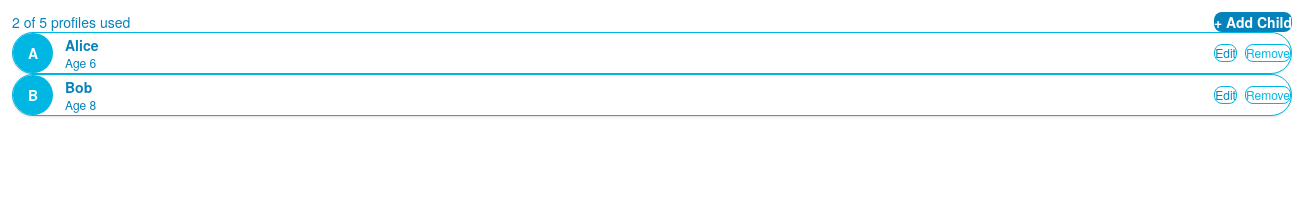
Test: ChildrenManager › submits edit and updates child in list
Click the button with test id "edit-child-btn" at (1226, 53), box x1=1214 y1=44 x2=1237 y2=62
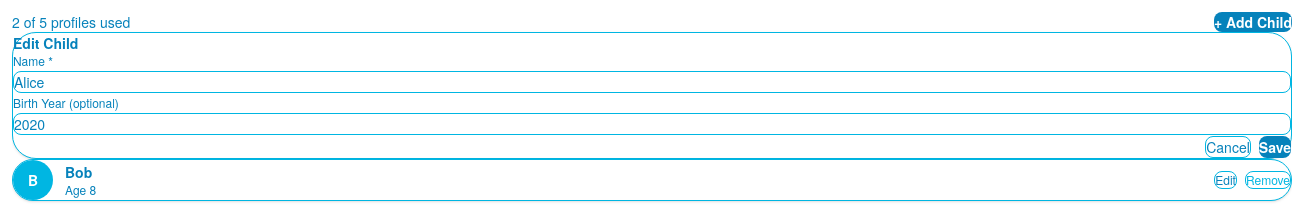
Replace the text in the field with test id "edit-child-name-input" with "Alicia" at (652, 82), box x1=13 y1=71 x2=1291 y2=93
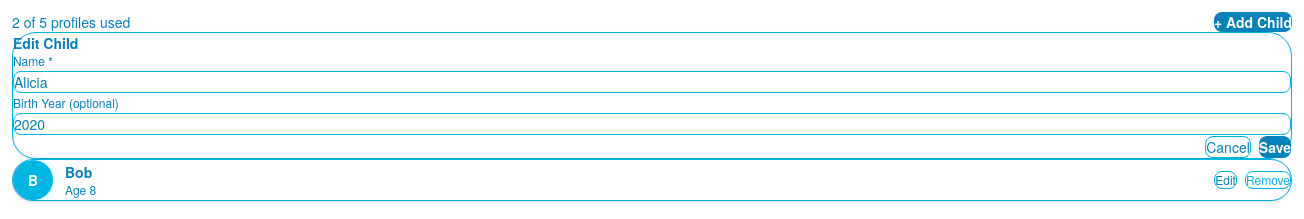
Click the button with test id "edit-child-save-btn" at (1275, 147), box x1=1259 y1=136 x2=1291 y2=158
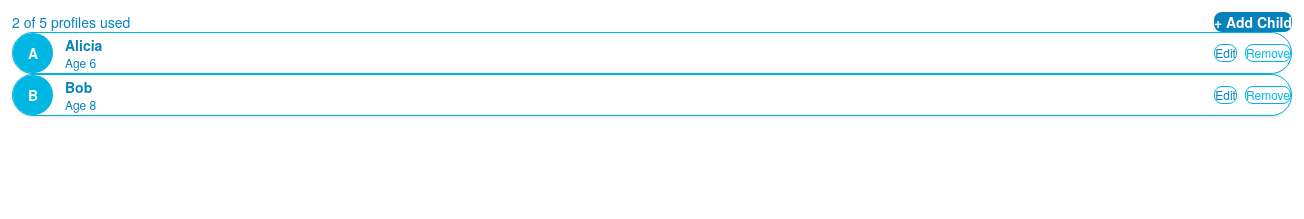
Now the form with test id "edit-child-form" is gone
Now the text "Alicia" is shown, box x1=65 y1=35 x2=102 y2=55
